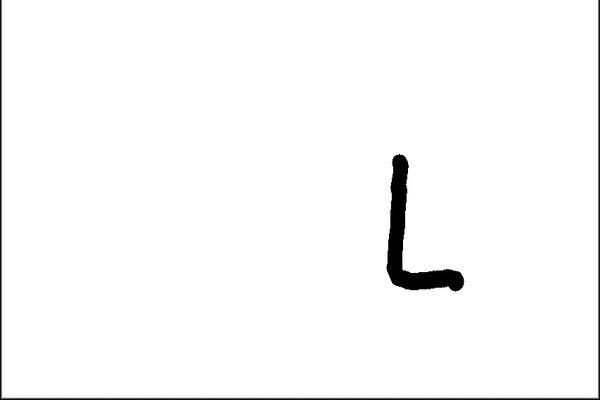L: (382, 148, 466, 297)
